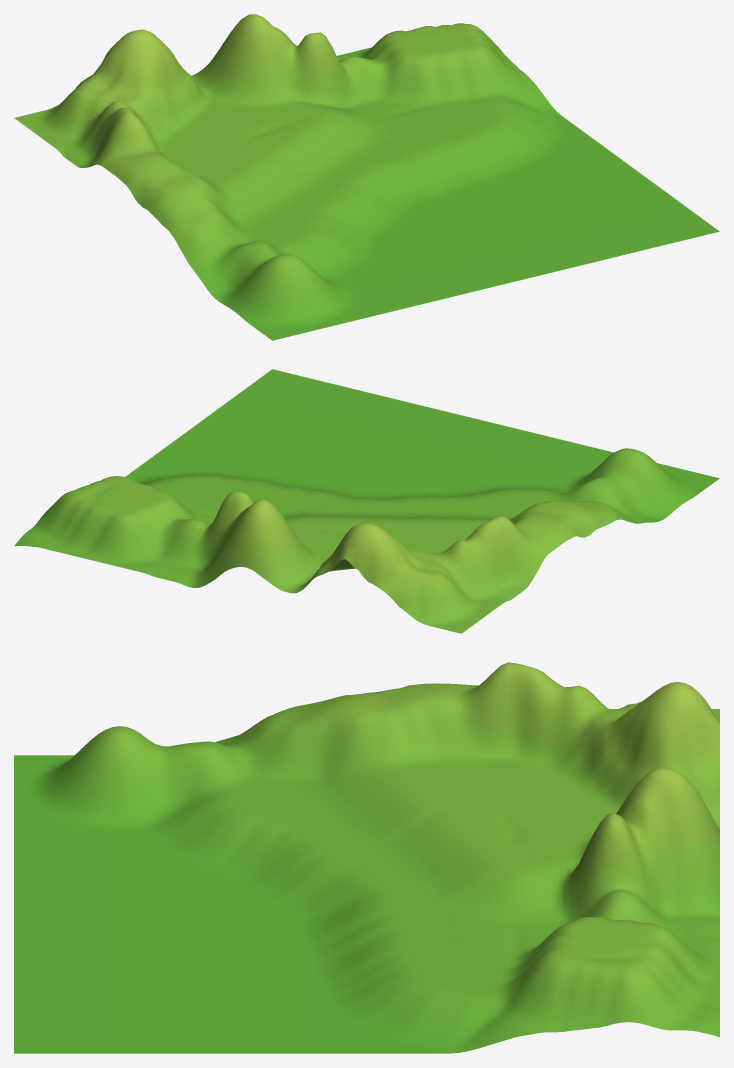
The model's file is obj_ground2.fbx.
The picture shows the model from 3 angles, top to bottom: view 1: azimuth 30°, elevation 25°; view 2: azimuth 150°, elevation 25°; view 3: azimuth 270°, elevation 25°; orthographic projection. The views are drawn at different scales.
Visible parts, largest first — view 1: obj_ground2; view 2: obj_ground2; view 3: obj_ground2.
Boxes of the visible parts, x1,y1,x2,y2 form: obj_ground2: (14, 14, 719, 340); obj_ground2: (14, 369, 719, 633); obj_ground2: (14, 662, 719, 1053).
Bounding box in the file's own units: 96.43 × 21.57 × 96.43.
1 material, 1 textured.
